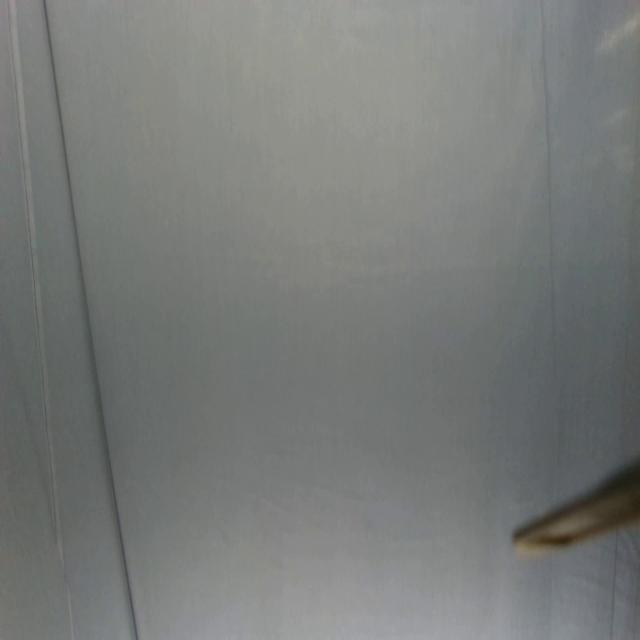crease: (44, 0, 139, 640), (4, 0, 76, 637), (539, 0, 559, 374), (607, 528, 622, 640)
